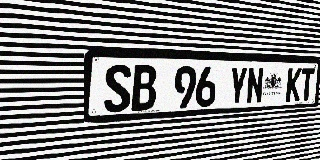6: (196, 66, 217, 107)
9: (174, 66, 197, 109)
B: (131, 65, 157, 111)
K: (286, 68, 302, 102)
N: (246, 67, 264, 104)
S: (104, 64, 131, 113)
T: (299, 68, 315, 101)
Y: (228, 67, 248, 105)
